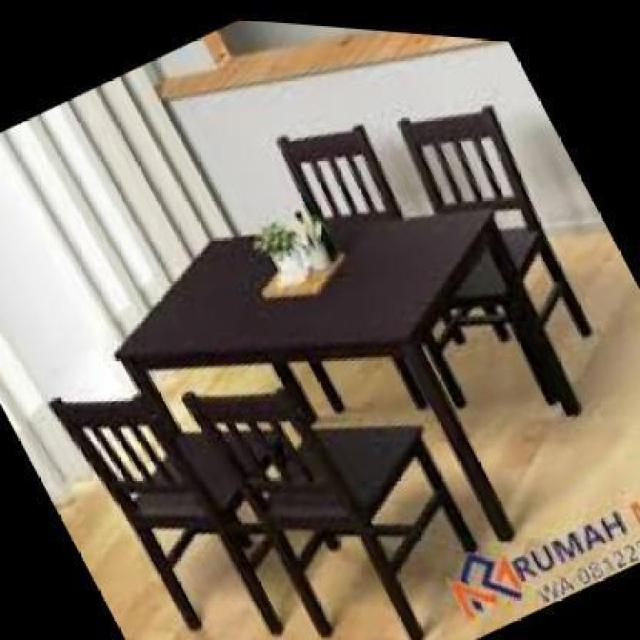tables: (112, 206, 517, 552)
